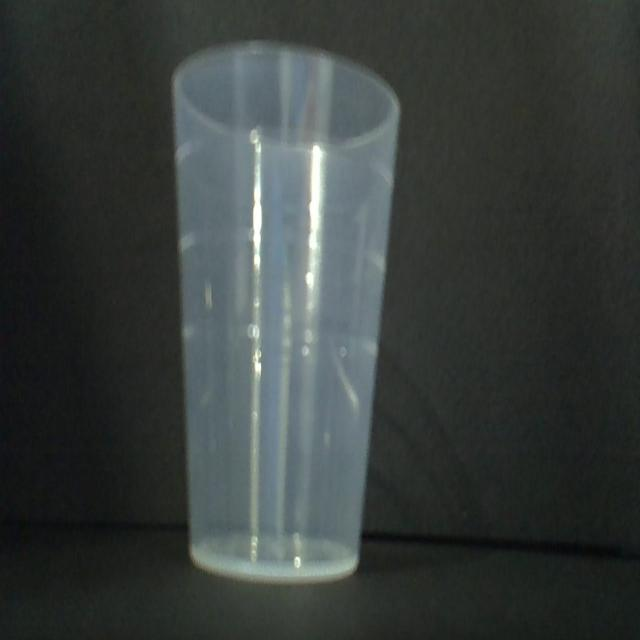cup: (167, 38, 404, 584)
